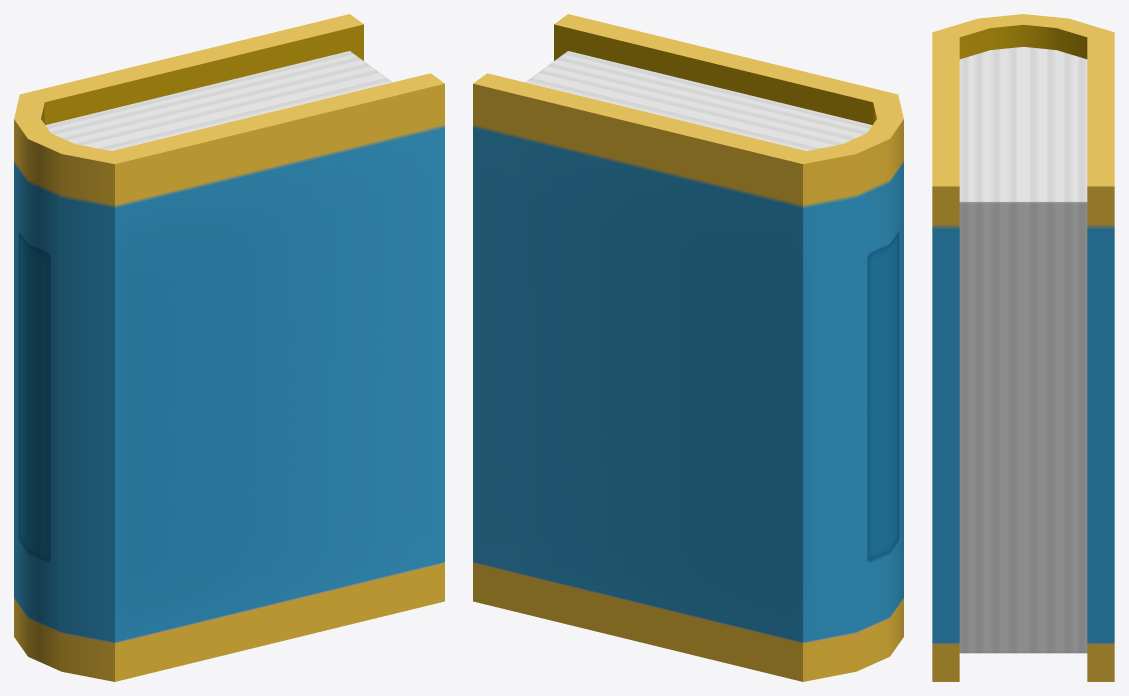
File: book.FBX
3 views of the same model, side by side, from view 1: azimuth 30°, elevation 25°; view 2: azimuth 150°, elevation 25°; view 3: azimuth 270°, elevation 25° (orthographic). The views are drawn at different scales.
Visible parts, largest first — view 1: book; view 2: book; view 3: book.
Boxes of the visible parts, x1=… form: book: x1=14, y1=14, x2=444, y2=681; book: x1=473, y1=14, x2=903, y2=681; book: x1=932, y1=14, x2=1114, y2=681.
Bounding box in the file's own units: 22.39 × 30 × 10.
